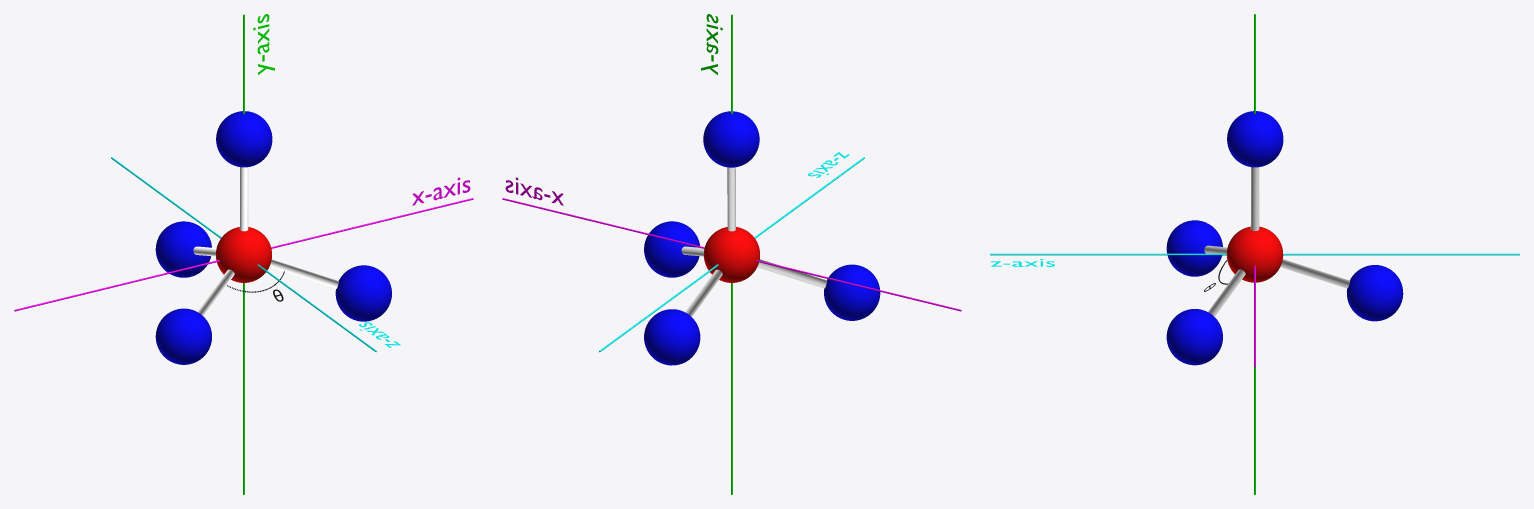
File: tetrahedral_coor.glb
3 renders of one model, left to right at view 1: azimuth 30°, elevation 25°; view 2: azimuth 150°, elevation 25°; view 3: azimuth 270°, elevation 25°, orthographic.
Visible parts, largest first — view 1: 1tetrahedral, Cylinder.001, Cylinder.002, Cylinder; view 2: 1tetrahedral, Cylinder.001, Cylinder.002, Cylinder; view 3: 1tetrahedral, Cylinder.002.
Boxes of the visible parts, x1,y1,x2,y2 form: 1tetrahedral: [155, 111, 391, 364]; Cylinder.001: [14, 198, 473, 311]; Cylinder.002: [111, 157, 376, 352]; Cylinder: [243, 14, 244, 494]; 1tetrahedral: [644, 111, 880, 365]; Cylinder.001: [502, 198, 961, 311]; Cylinder.002: [599, 157, 864, 352]; Cylinder: [731, 14, 732, 494]; 1tetrahedral: [1166, 111, 1403, 365]; Cylinder.002: [990, 253, 1519, 255].
Size of the model in its own units: 6 by 6 by 6.
12 materials, 1 textured.
